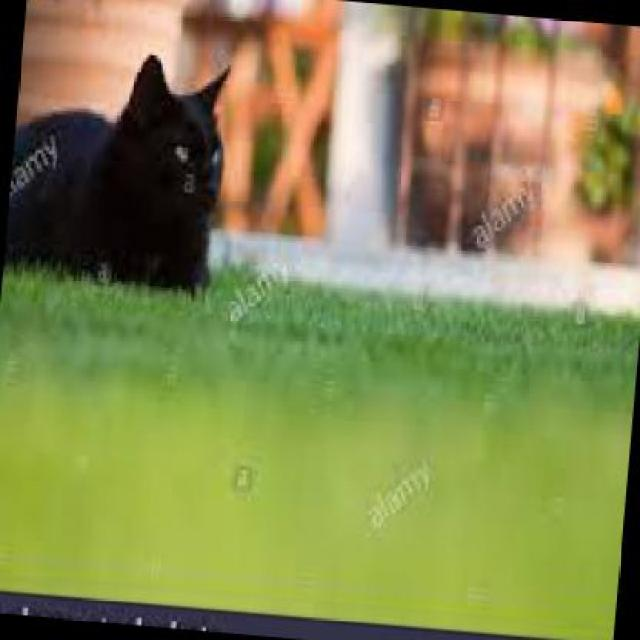animals: (3, 42, 248, 290)
